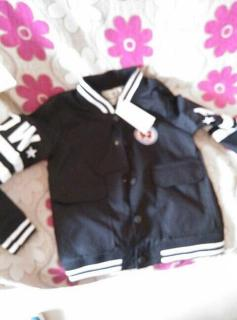long sleeve top: (0, 66, 237, 282)
